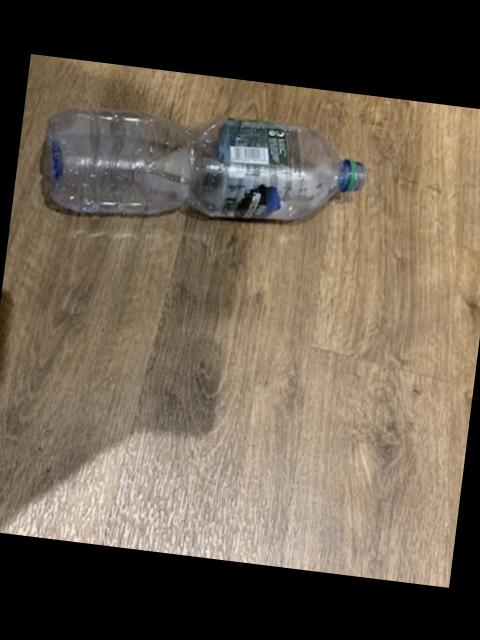plastic: (48, 107, 368, 217)
